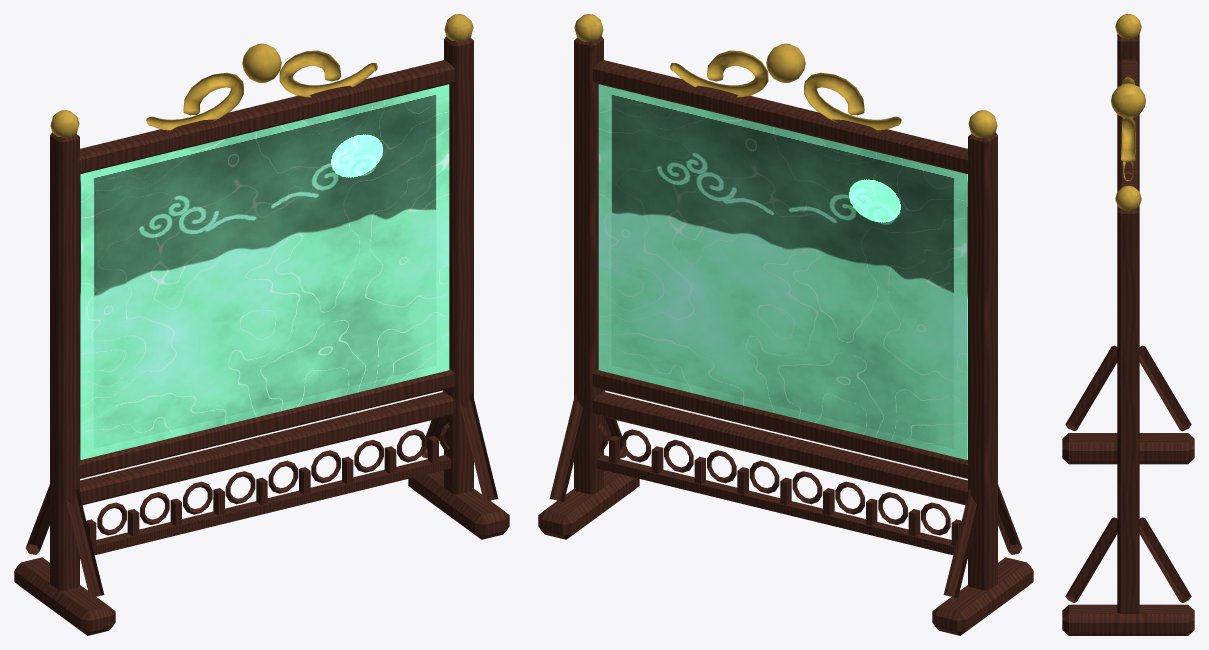
File: jade_screen.glb
The picture shows the model from 3 angles, left to right: view 1: azimuth 30°, elevation 25°; view 2: azimuth 150°, elevation 25°; view 3: azimuth 270°, elevation 25°; orthographic projection. The views are drawn at different scales.
Visible parts, largest first — view 1: JadePanel, ScreenFrame, ScreenApron, ScreenGilt; view 2: JadePanel, ScreenFrame, ScreenApron, ScreenGilt; view 3: ScreenFrame, ScreenGilt.
Part boxes in pixels (box(x1,y1,x2,y2)): JadePanel: box(80, 84, 449, 459); ScreenFrame: box(14, 36, 509, 635); ScreenApron: box(80, 423, 451, 558); ScreenGilt: box(50, 14, 473, 137); JadePanel: box(598, 84, 967, 459); ScreenFrame: box(538, 36, 1033, 635); ScreenApron: box(596, 423, 967, 558); ScreenGilt: box(574, 14, 997, 137); ScreenFrame: box(1062, 34, 1194, 635); ScreenGilt: box(1111, 14, 1145, 210).
Size of what is drawn, in the model's own units: 2 by 2.3 by 0.6.
3 materials, 3 textured.
